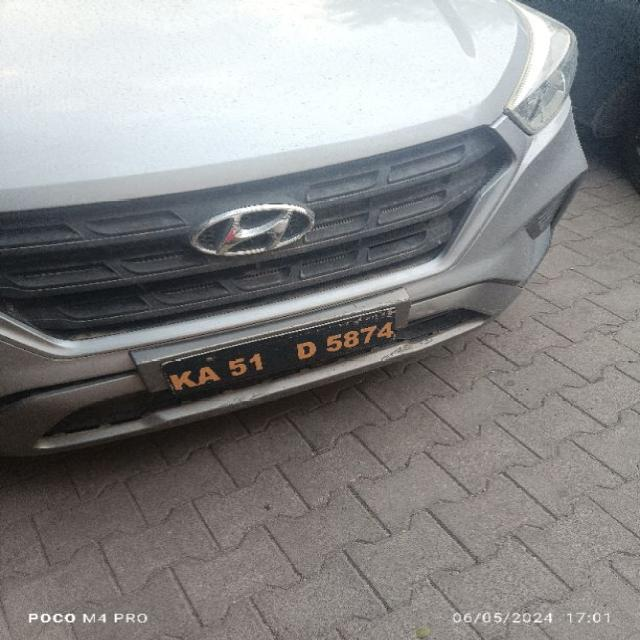license_plate: (134, 286, 412, 408)
